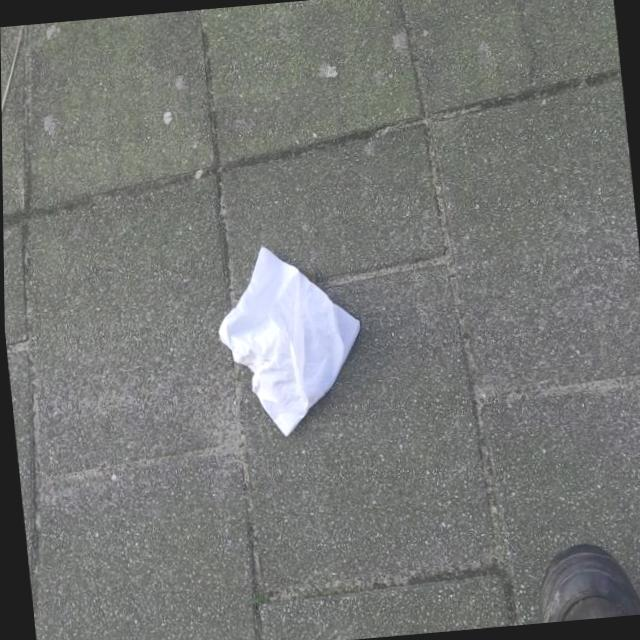Paper: (208, 234, 371, 446)
